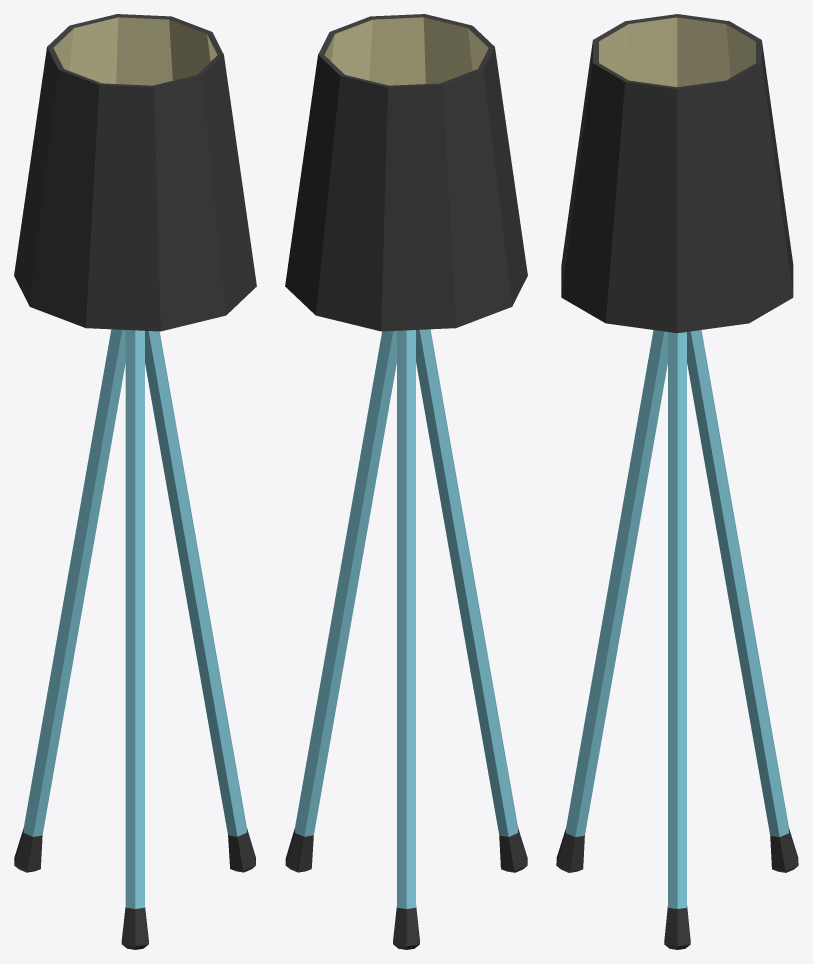
The model's file is asset-lights-b34bbc.glb.
The picture shows the model from 3 angles, left to right: view 1: azimuth 30°, elevation 25°; view 2: azimuth 150°, elevation 25°; view 3: azimuth 270°, elevation 25°; orthographic projection.
Visible parts, largest first — view 1: PropMesh; view 2: PropMesh; view 3: PropMesh.
Boxes of the visible parts, left/top/right/bottom form: PropMesh: left=14, top=14, right=256, bottom=949; PropMesh: left=285, top=14, right=527, bottom=949; PropMesh: left=556, top=14, right=798, bottom=949.
Size of the model in its own units: 0.4765 by 1.7 by 0.4415.
